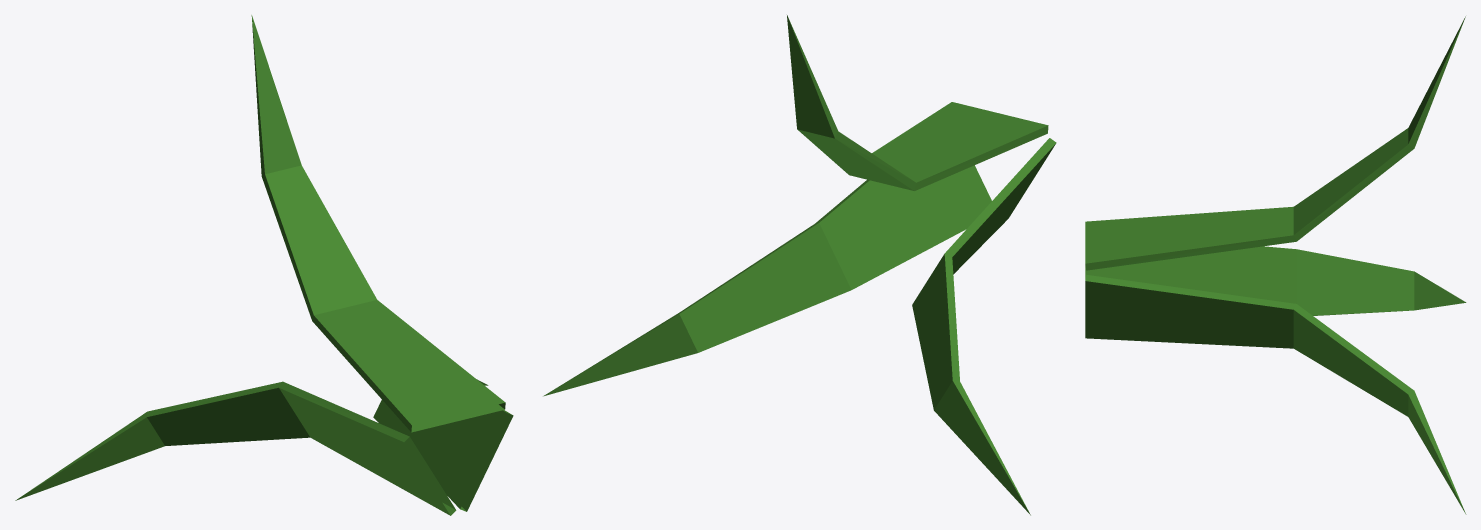
Rendered from grass1.dae.
3 renders of one model, left to right at view 1: azimuth 30°, elevation 25°; view 2: azimuth 150°, elevation 25°; view 3: azimuth 270°, elevation 25°, orthographic. The views are drawn at different scales.
Parts seen in each view (by area): view 1: Low_Poly_Grass_001; view 2: Low_Poly_Grass_001; view 3: Low_Poly_Grass_001.
Boxes of the visible parts, x1,y1,x2,y2 form: Low_Poly_Grass_001: (15, 15, 513, 515); Low_Poly_Grass_001: (543, 15, 1056, 515); Low_Poly_Grass_001: (1085, 16, 1466, 514).
Size of the model in its own units: 0.365 by 0.276 by 0.3155.
1 material, 1 textured.
